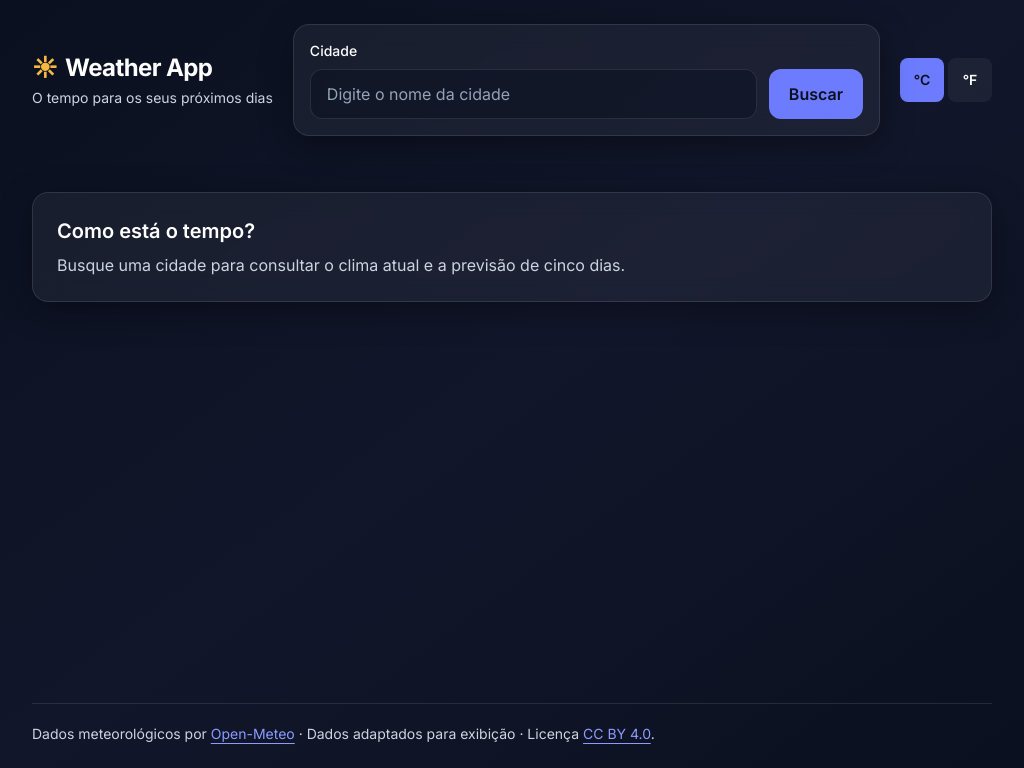
Test: App integrado ao useWeather › não rouba o foco de outro controle quando a busca termina
In the search field: [533, 94] box [310,69,757,119], type "Curitiba"
Then press Enter
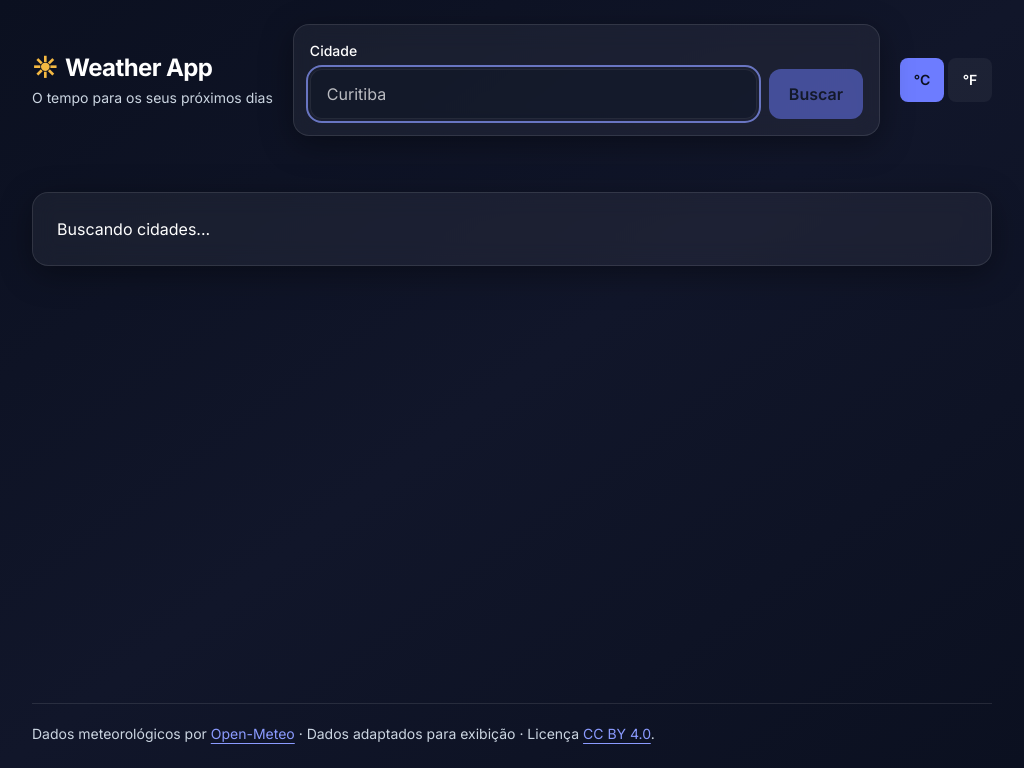
Click the button named "Fahrenheit": [970, 80] box [948,58,992,102]
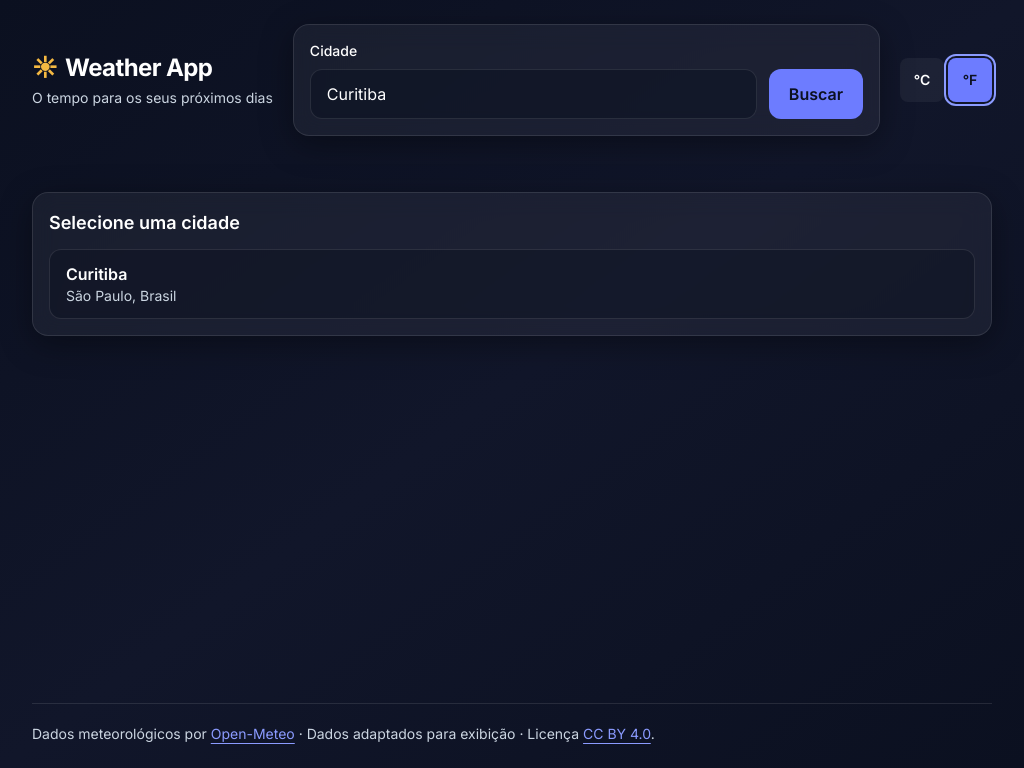
Expected: the element named "Resultados da busca" is shown, [32,192,992,336]
